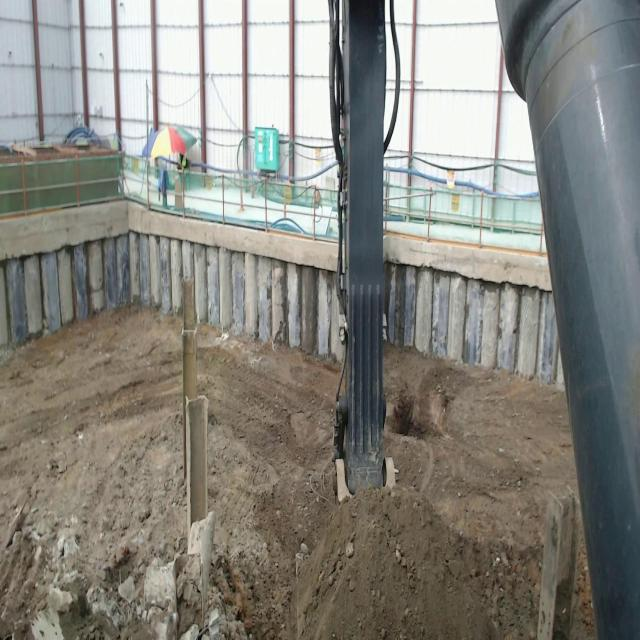red-sand: (198, 327, 575, 639), (0, 308, 186, 558)
